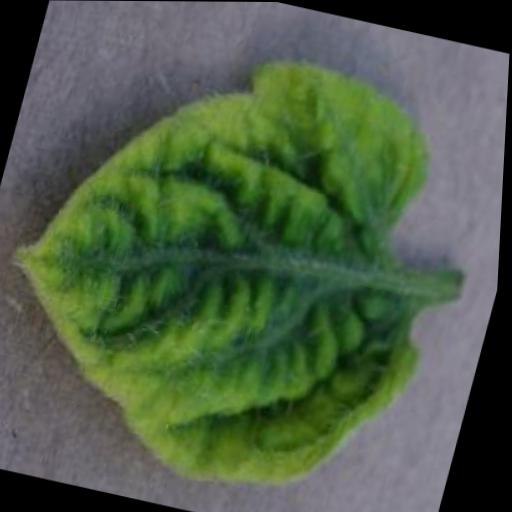Yellow Leaf Curl Virus: (0, 8, 492, 512)
